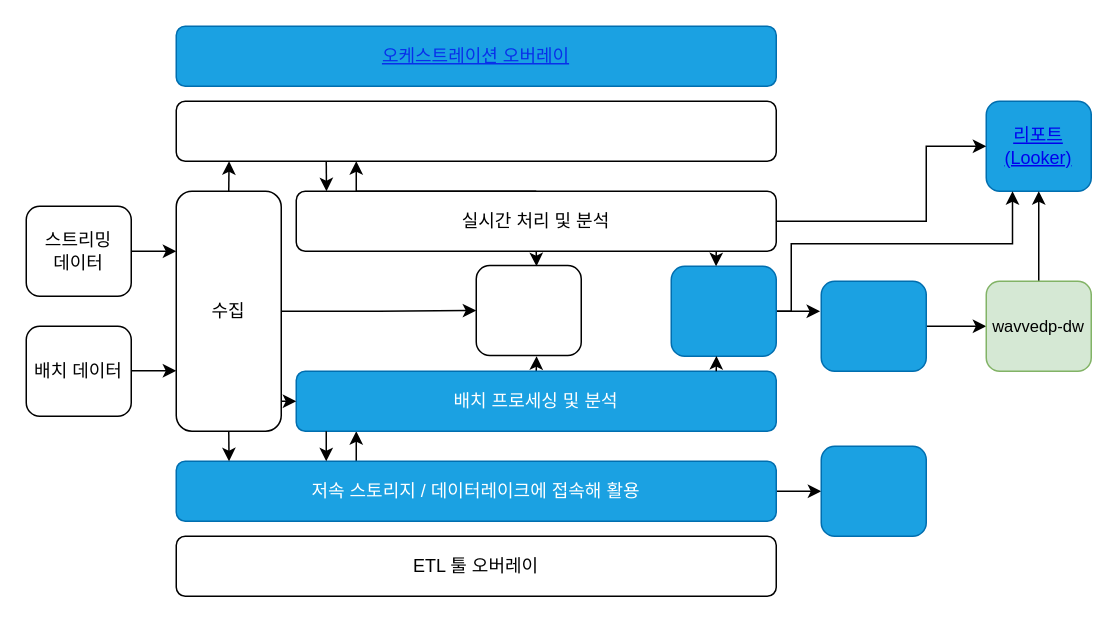
This 1118x623 diagram has some shape labels left out. The shapes that lost their labels are listed below. From the top down, each one's centre as x and y in pixels, then its label:
At [475,130]: "고속 스토리지".
At [528,310]: "운영 메타데이터".
At [723,310]: "데이터 웨어하우스".
At [873,325]: "데이터익명화".
At [873,490]: "데이터 소비자".
